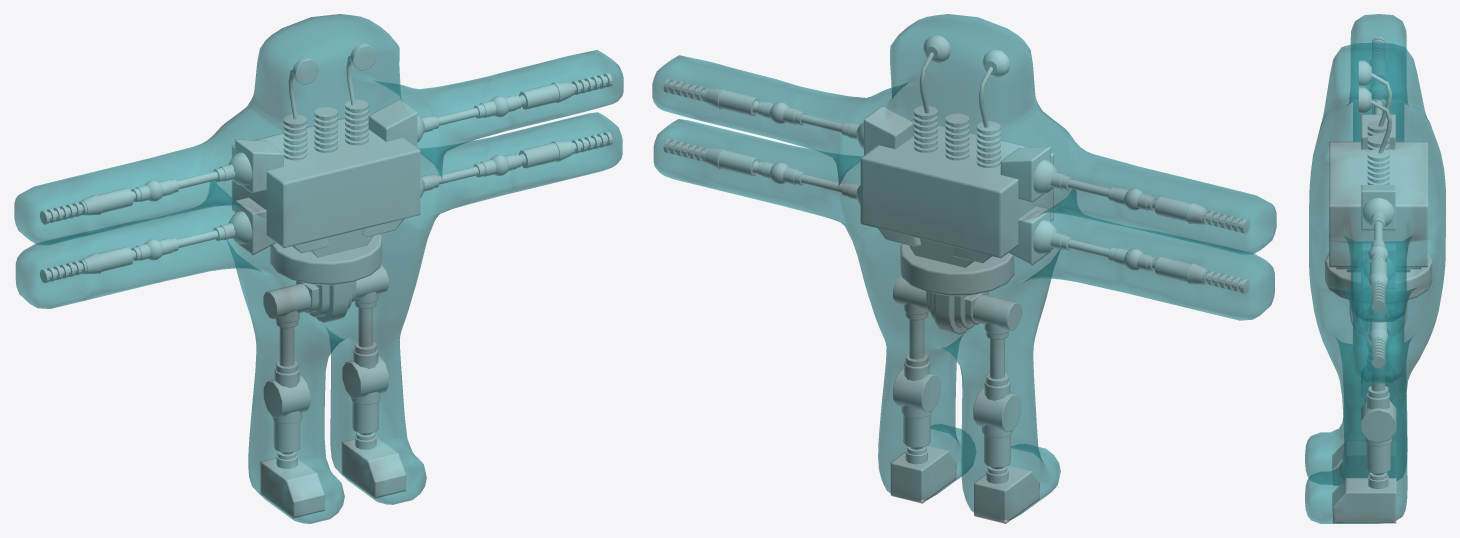
Rendered from Robotmonster.fbx.
3 views of the same model, side by side, from view 1: azimuth 30°, elevation 25°; view 2: azimuth 150°, elevation 25°; view 3: azimuth 270°, elevation 25° (orthographic). The views are drawn at different scales.
Parts seen in each view (by area): view 1: water, chest, pCube6 (×2), pCylinder4 (×4), shoulders, pCylinder3 (×4), wasit, sparks, pasted__pCylinder3 (×2), pCylinder8 (×2), pasted__pCylinder4 (×2), waist_pivot (+1 smaller); view 2: water, chest, pCube6 (×2), pCylinder4 (×4), shoulders, pCylinder3 (×4), wasit, sparks, pCylinder8 (×2), pasted__pCylinder3 (×2), pasted__pCylinder4 (×2), waist_pivot (+1 smaller); view 3: water, chest, pCube6 (×2), wasit, shoulders, pCylinder8 (×2), pCylinder4 (×3), sparks, pasted__pCylinder4, pSphere1 (×2), pasted__pCylinder3, pCylinder3 (×2) (+8 smaller).
Part boxes in pixels (x1,y1,x2,y2): water: (14,14,623,523); chest: (231,113,420,257); pCube6 (×2): (260,437,406,518); pCylinder4 (×4): (81,82,572,273); shoulders: (234,99,417,254); pCylinder3 (×4): (159,101,496,255); wasit: (270,234,381,285); sparks: (283,99,368,160); pasted__pCylinder3 (×2): (274,292,378,387); pCylinder8 (×2): (263,356,388,417); pasted__pCylinder4 (×2): (272,392,380,468); waist_pivot: (263,265,388,318); water: (652,14,1276,520); chest: (860,119,1053,267); pCube6 (×2): (890,445,1039,523); pCylinder4 (×4): (705,88,1207,284); shoulders: (864,106,1050,265); pCylinder3 (×4): (783,107,1128,264); wasit: (900,244,1014,296); sparks: (914,106,1000,167); pCylinder8 (×2): (893,368,1021,431); pasted__pCylinder3 (×2): (904,303,1010,400); pasted__pCylinder4 (×2): (901,405,1012,483); waist_pivot: (893,275,1021,330); water: (1305,14,1445,523); chest: (1329,141,1427,272); pCube6 (×2): (1332,440,1396,523); wasit: (1325,253,1432,299); shoulders: (1361,114,1395,288); pCylinder8 (×2): (1361,380,1396,442); pCylinder4 (×3): (1368,55,1387,345); sparks: (1367,120,1389,184); pasted__pCylinder4: (1364,437,1391,488); pSphere1 (×2): (1362,198,1394,280); pasted__pCylinder3: (1367,344,1389,409); pCylinder3 (×2): (1371,90,1385,247).
Bounding box in the file's own units: 267 × 201 × 57.65.
